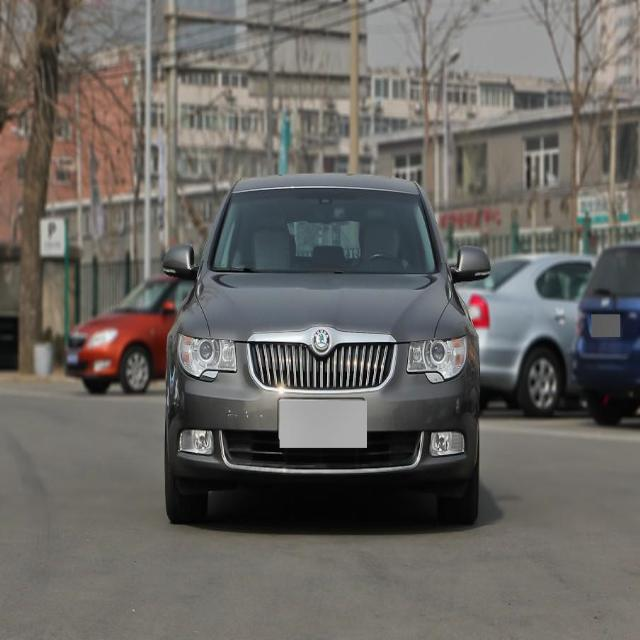front_bumper: (166, 352, 478, 477)
front_glass: (206, 189, 440, 274)
front_left_side_light: (406, 333, 469, 385)
front_left_side_mirror: (454, 246, 493, 284)
front_right_side_light: (176, 329, 238, 384)
front_right_side_mirror: (161, 242, 196, 280)
